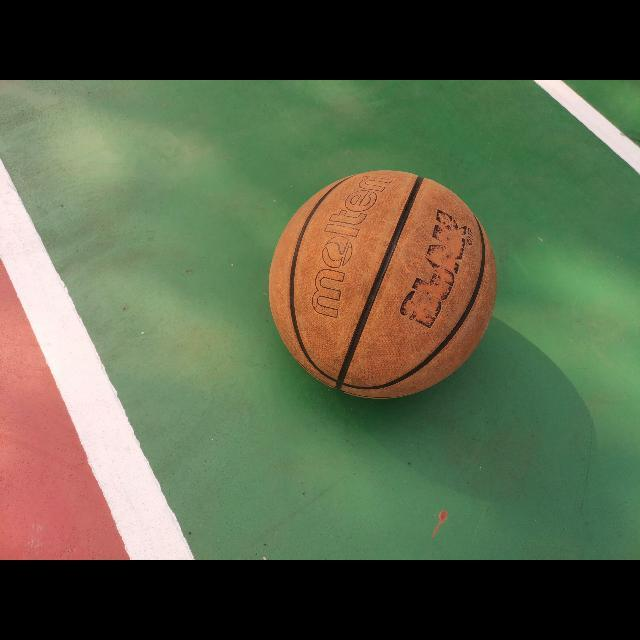basketball: (268, 170, 498, 398)
